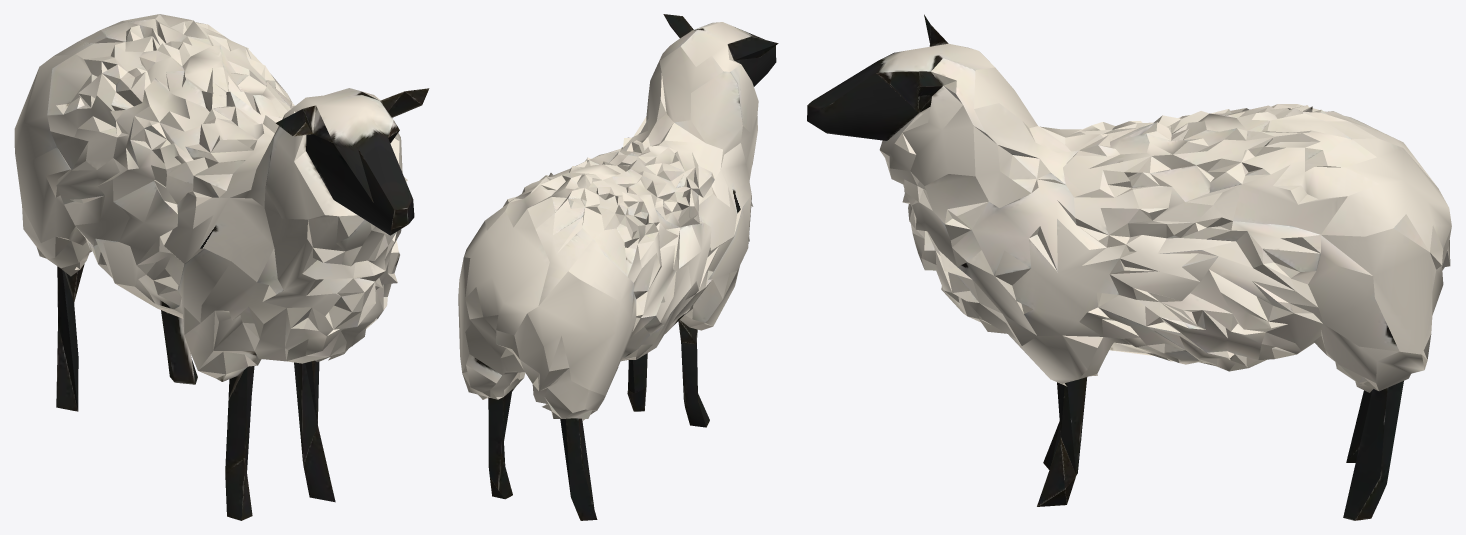
File: sheep.glb
The picture shows the model from 3 angles, left to right: view 1: azimuth 30°, elevation 25°; view 2: azimuth 150°, elevation 25°; view 3: azimuth 270°, elevation 25°; orthographic projection. The views are drawn at different scales.
Parts seen in each view (by area): view 1: mesh_node; view 2: mesh_node; view 3: mesh_node.
Part boxes in pixels (x1,y1,x2,y2): mesh_node: (14, 14, 429, 520); mesh_node: (458, 14, 778, 520); mesh_node: (807, 14, 1451, 520).
Bounding box in the file's own units: 0.7121 × 1.43 × 1.89.
1 material, 1 textured.
